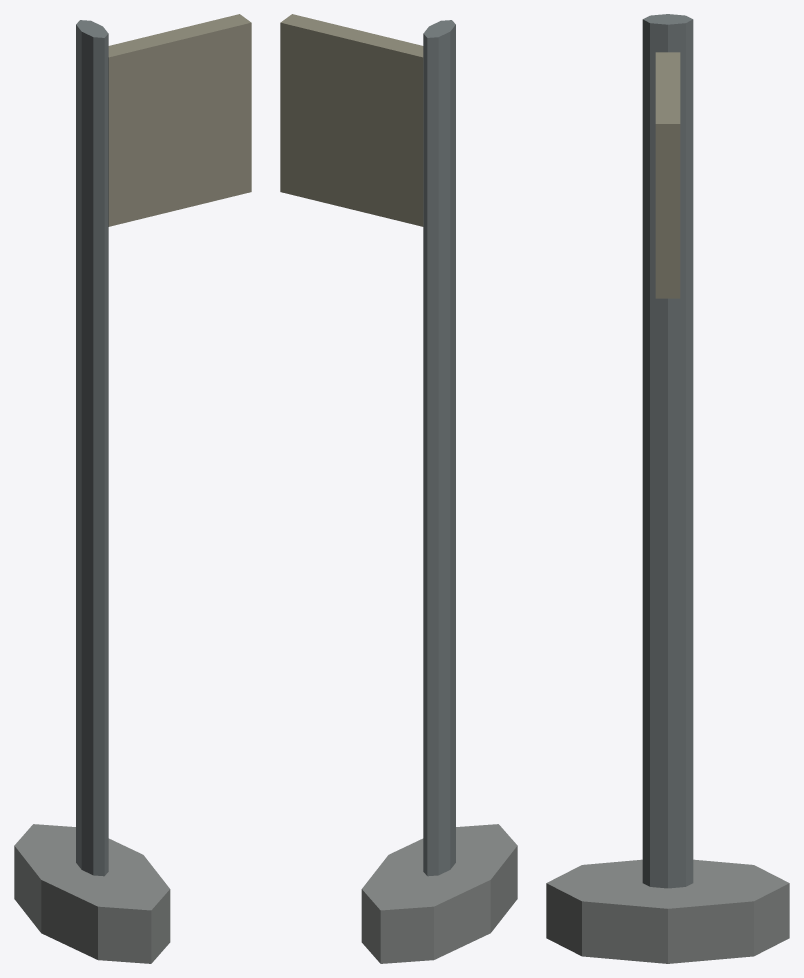
File: flagpole.glb
3 views of the same model, side by side, from view 1: azimuth 30°, elevation 25°; view 2: azimuth 150°, elevation 25°; view 3: azimuth 270°, elevation 25° (orthographic). The views are drawn at different scales.
Visible parts, largest first — view 1: flagpole; view 2: flagpole; view 3: flagpole.
Part boxes in pixels (<box>): flagpole: <box>14,14,251,963</box>; flagpole: <box>280,14,517,963</box>; flagpole: <box>546,14,789,963</box>.
Size of the model in its own units: 0.96 by 4 by 0.96.
